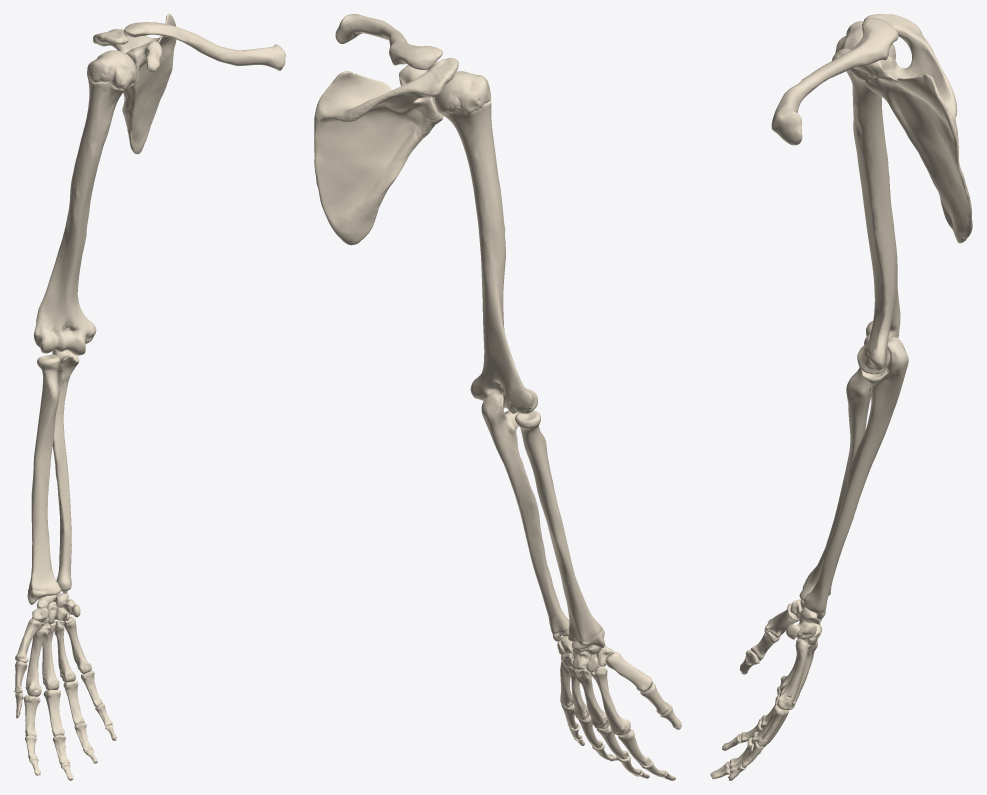
Rendered from skeletal.upper_limb_right.glb.
The picture shows the model from 3 angles, left to right: view 1: azimuth 30°, elevation 25°; view 2: azimuth 150°, elevation 25°; view 3: azimuth 270°, elevation 25°; orthographic projection. The views are drawn at different scales.
Parts seen in each view (by area): view 1: right_humerus, right_radius, right_scapula, right_ulna, right_clavicle, right_second_metacarpal_bone, right_third_metacarpal_bone, right_fourth_metacarpal_bone, right_fifth_metacarpal_bone, proximal_phalanx_of_right_middle_finger, right_first_metacarpal_bone, proximal_phalanx_of_right_ring_finger (+1 smaller); view 2: right_scapula, right_humerus, right_ulna, right_radius, right_clavicle, right_second_metacarpal_bone, right_third_metacarpal_bone, right_first_metacarpal_bone; view 3: right_scapula, right_humerus, right_ulna, right_clavicle, right_radius, right_fifth_metacarpal_bone, right_first_metacarpal_bone.
Boxes of the visible parts, bbox=[...] form: right_humerus: bbox=[33, 50, 136, 355]; right_radius: bbox=[27, 354, 61, 604]; right_scapula: bbox=[93, 14, 176, 154]; right_ulna: bbox=[52, 350, 79, 593]; right_clavicle: bbox=[123, 22, 285, 70]; right_second_metacarpal_bone: bbox=[25, 623, 50, 696]; right_third_metacarpal_bone: bbox=[42, 622, 59, 690]; right_fourth_metacarpal_bone: bbox=[54, 620, 75, 682]; right_fifth_metacarpal_bone: bbox=[64, 616, 91, 673]; proximal_phalanx_of_right_middle_finger: bbox=[43, 689, 64, 736]; right_first_metacarpal_bone: bbox=[15, 618, 43, 662]; proximal_phalanx_of_right_ring_finger: bbox=[63, 680, 84, 725]; right_scapula: bbox=[314, 58, 458, 245]; right_humerus: bbox=[434, 71, 537, 413]; right_ulna: bbox=[481, 392, 569, 641]; right_radius: bbox=[515, 410, 604, 648]; right_clavicle: bbox=[335, 14, 442, 69]; right_second_metacarpal_bone: bbox=[590, 665, 630, 735]; right_third_metacarpal_bone: bbox=[575, 666, 609, 728]; right_first_metacarpal_bone: bbox=[606, 652, 652, 692]; right_scapula: bbox=[832, 14, 972, 243]; right_humerus: bbox=[835, 21, 900, 374]; right_ulna: bbox=[804, 337, 908, 619]; right_clavicle: bbox=[771, 17, 898, 145]; right_radius: bbox=[799, 367, 871, 601]; right_fifth_metacarpal_bone: bbox=[777, 639, 809, 710]; right_first_metacarpal_bone: bbox=[765, 603, 799, 637].
Bounding box in the file's own units: 0.3148 × 0.7026 × 0.1998.
